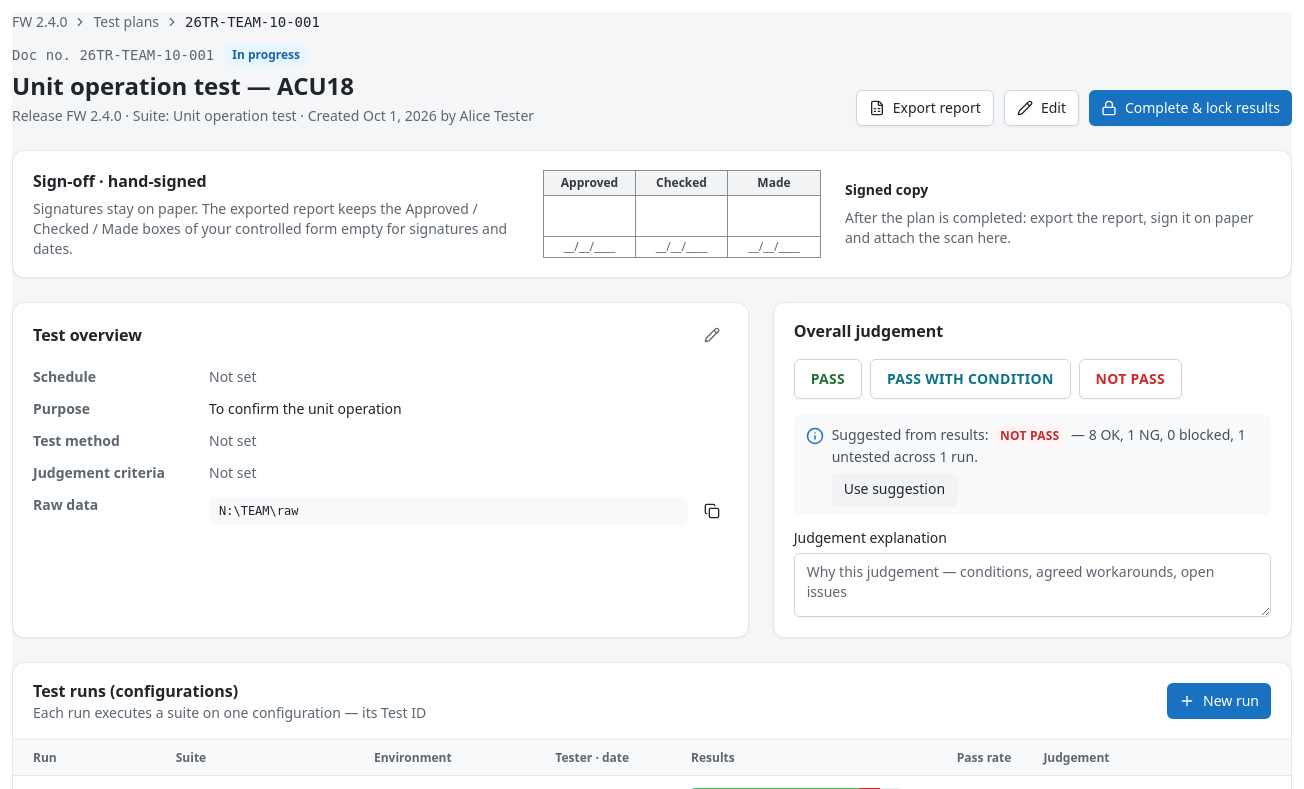
Test case: PlanDetailPage › edits the test overview in place
Click the button named "Edit test overview" at (712, 335), box 696,319 -> 728,351
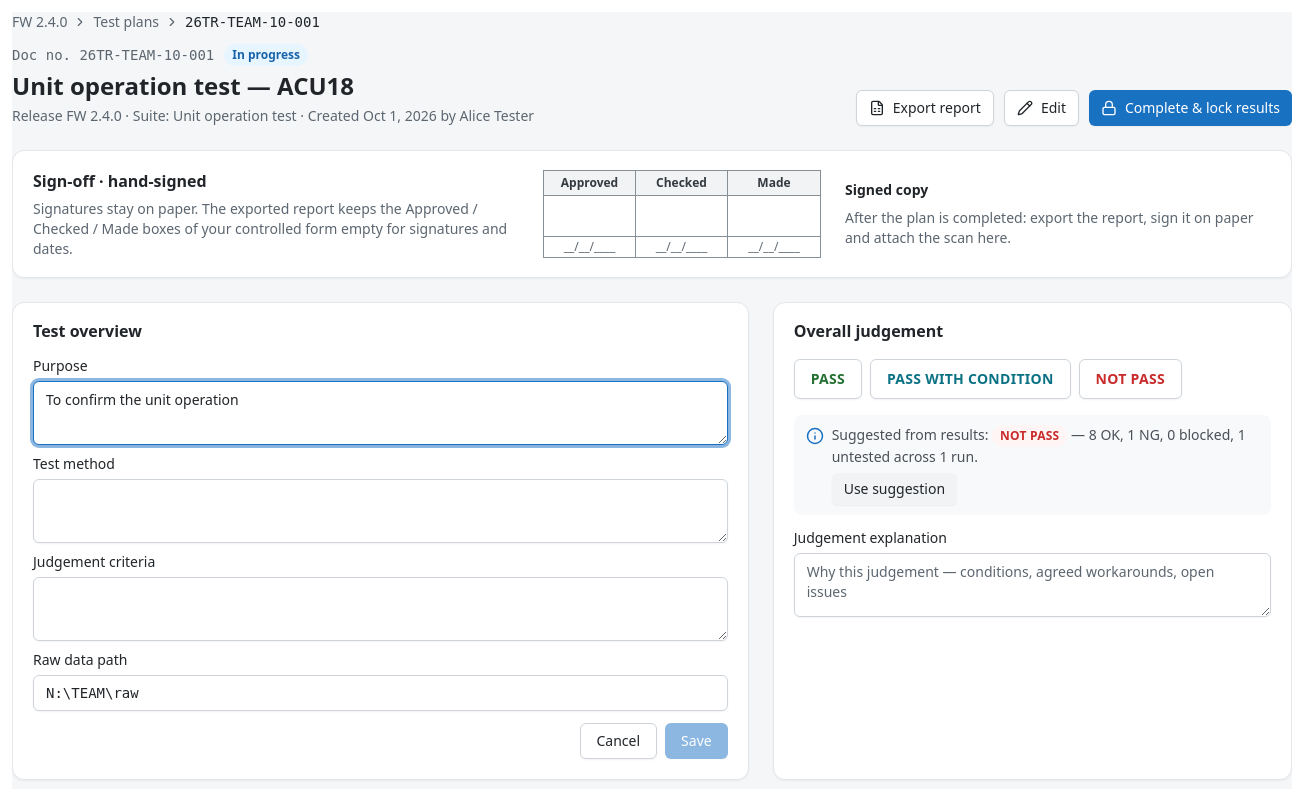
Replace the text in the text box labelled "Purpose" with "New purpose" at (380, 413), box 33,381 -> 728,445
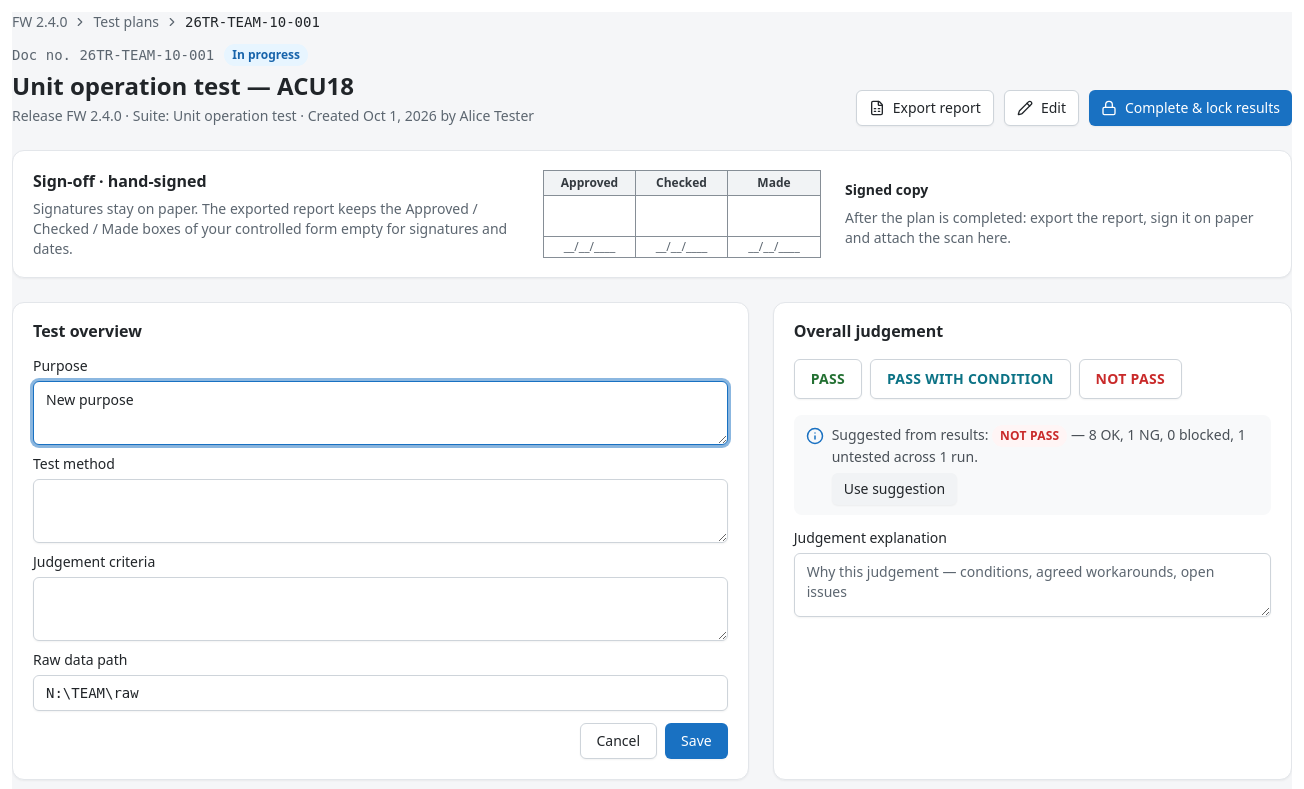
Click the button "Save" at (696, 741), box 665,723 -> 728,759
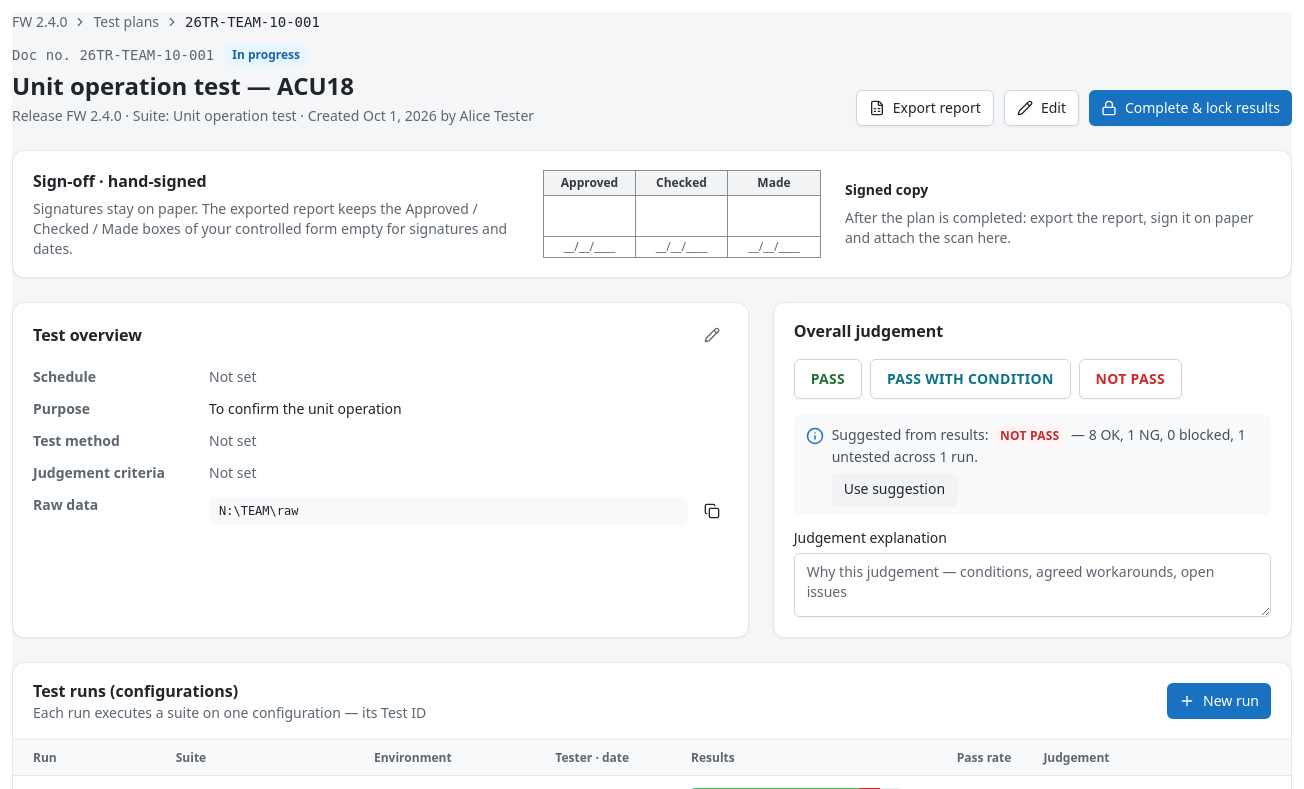
expect the button named "Edit test overview" is shown: met, box 696,319 -> 728,351
